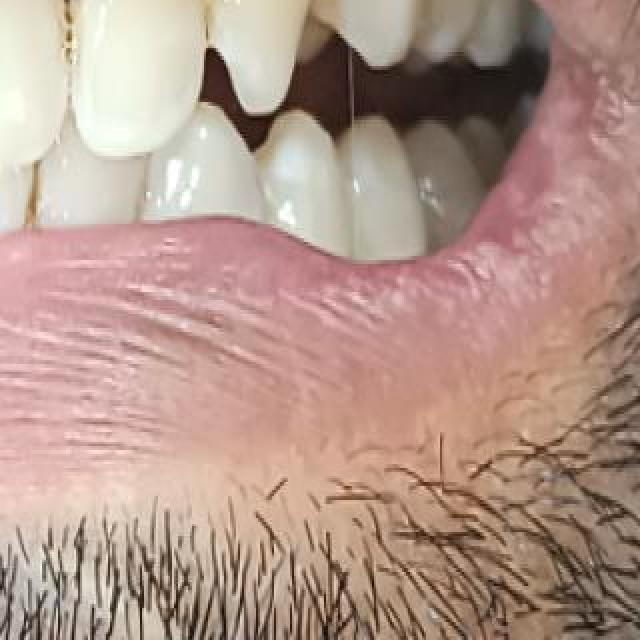stains: (178, 0, 242, 46), (50, 0, 84, 68), (21, 159, 45, 233), (304, 0, 364, 10)
